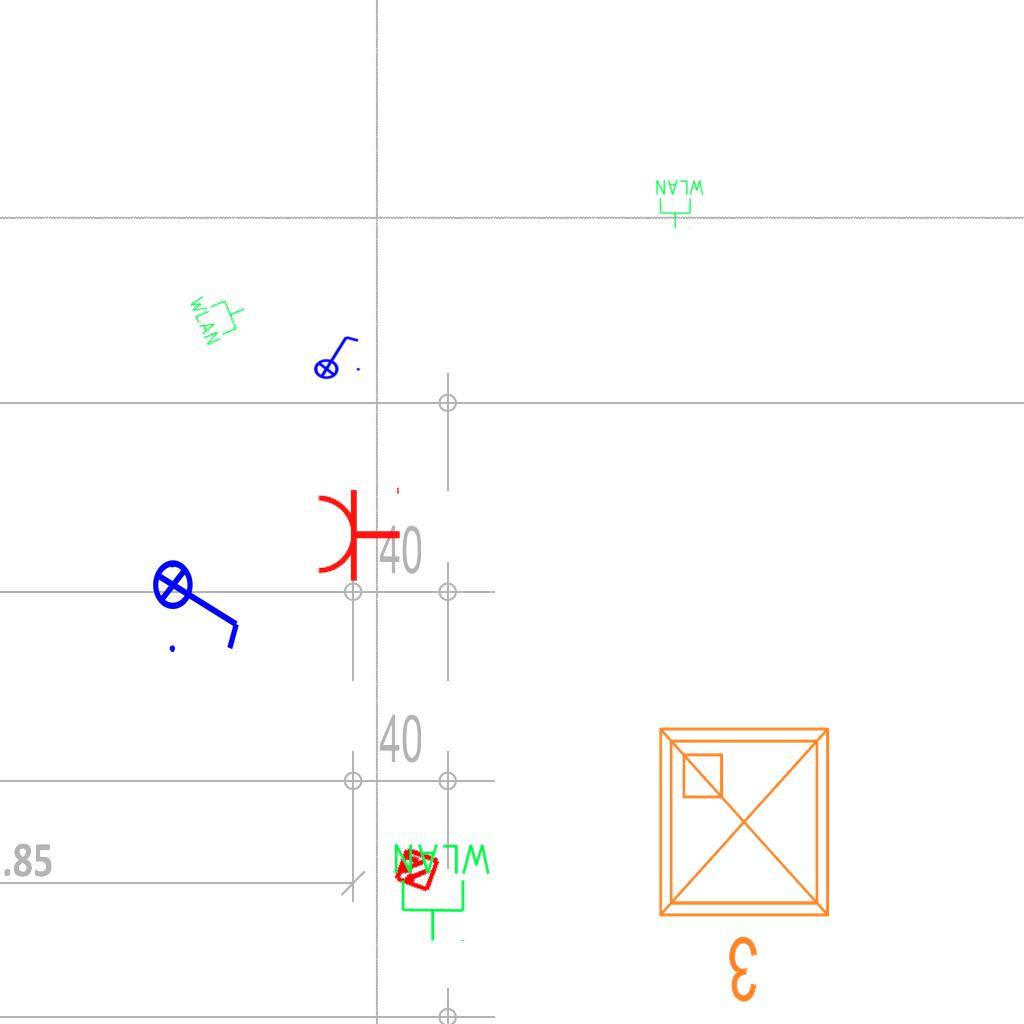Ausschalter_beleuchtet: (151, 546, 247, 658), (307, 332, 363, 380)
Einbaudownlights_LED_Konferenzraeume: (644, 713, 852, 1013)
OT_Multisensormelder_(Kombination_RMO_WMD): (380, 833, 452, 905)
Schukosteckdose_einfach: (315, 483, 402, 583)
WLAN: (390, 840, 495, 944), (185, 279, 255, 349), (654, 178, 706, 230)
